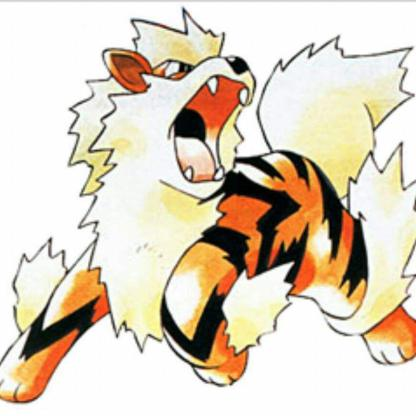Arcanine: (10, 13, 416, 416)
